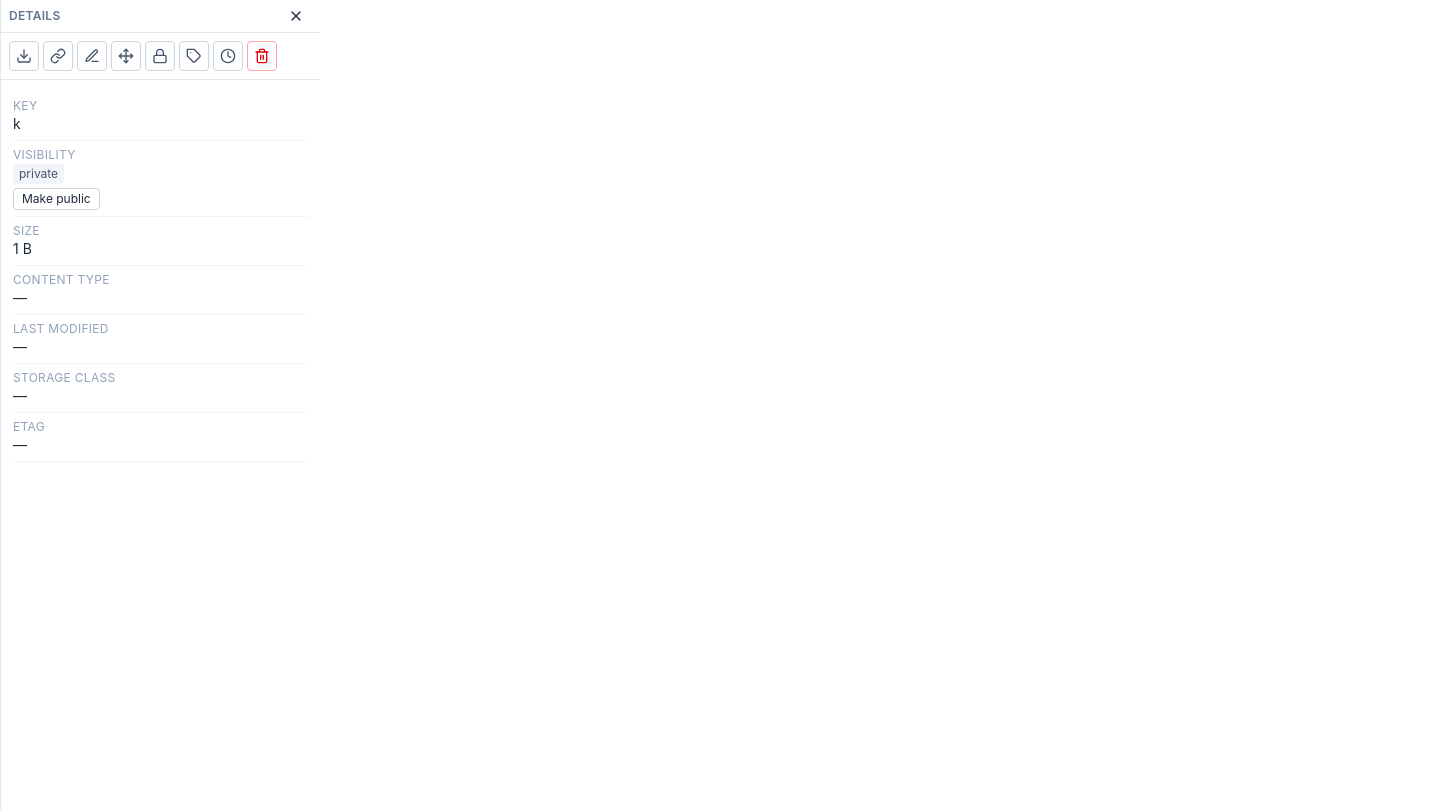
it: MetadataPanel permissions › opens the Permissions dialog from the actions row
The width and height of the screenshot is (1440, 810).
Click the button named "Permissions…" at (160, 56), box [145, 41, 175, 71]
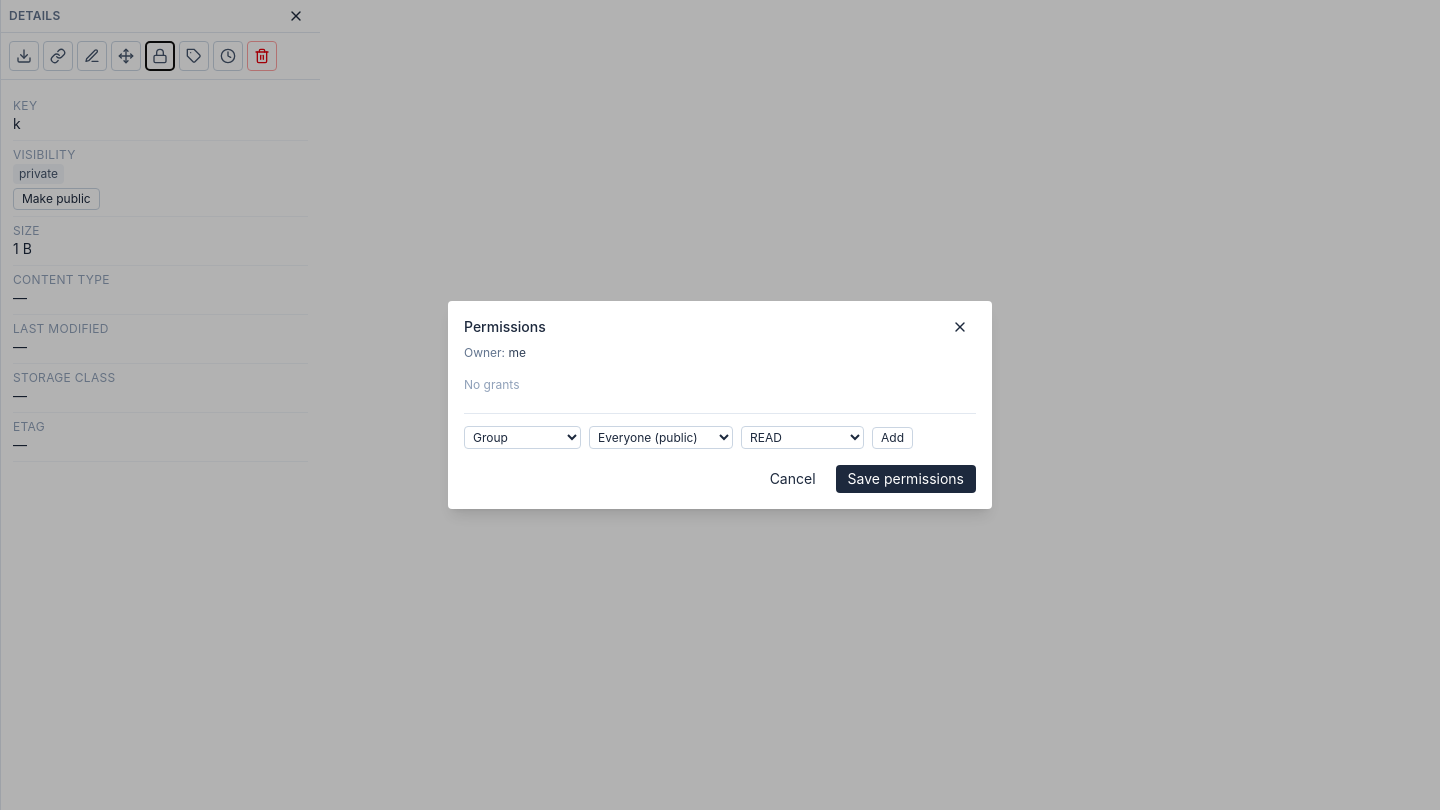
Expected: the text "Permissions" is shown, [464, 317, 546, 337]
Expected: the text "me" is shown, [508, 345, 526, 360]
